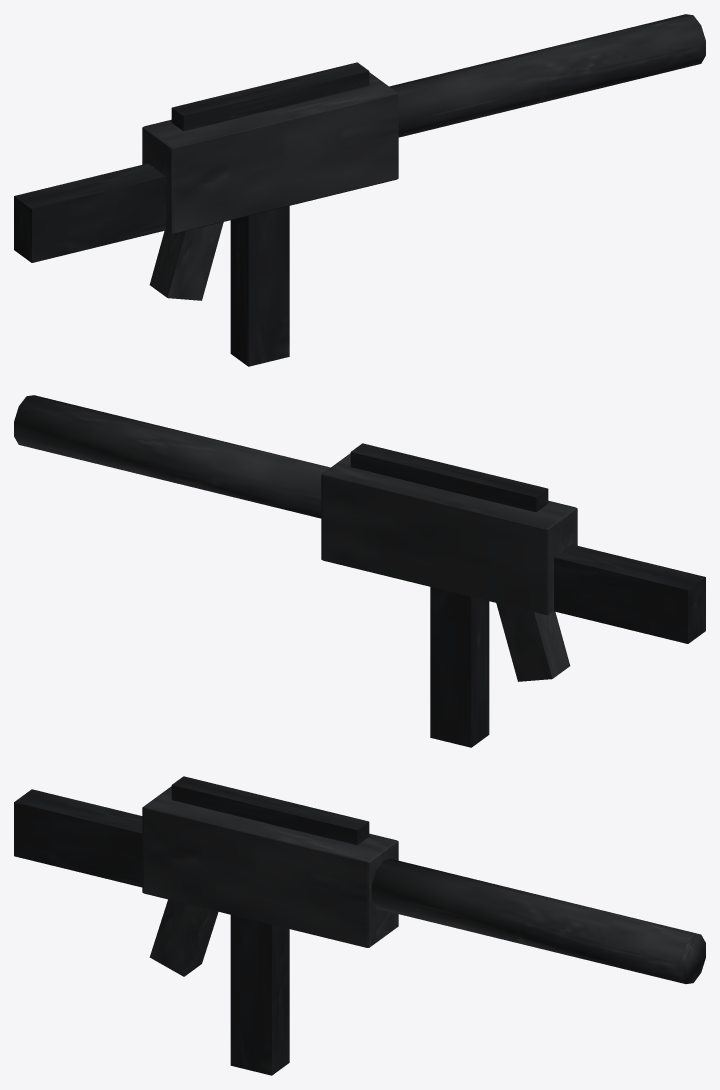
The model's file is gun_vg_smg.glb.
3 views of the same model, one above another, from view 1: azimuth 30°, elevation 25°; view 2: azimuth 150°, elevation 25°; view 3: azimuth 330°, elevation 25° (orthographic).
Visible parts, largest first — view 1: gun_vg_smg; view 2: gun_vg_smg; view 3: gun_vg_smg.
Boxes of the visible parts, x1,y1,x2,y2 form: gun_vg_smg: (14, 14, 705, 366); gun_vg_smg: (14, 395, 705, 747); gun_vg_smg: (14, 776, 705, 1075).
Bounding box in the file's own units: 0.65 × 0.244 × 0.05.
2 materials, 2 textured.
